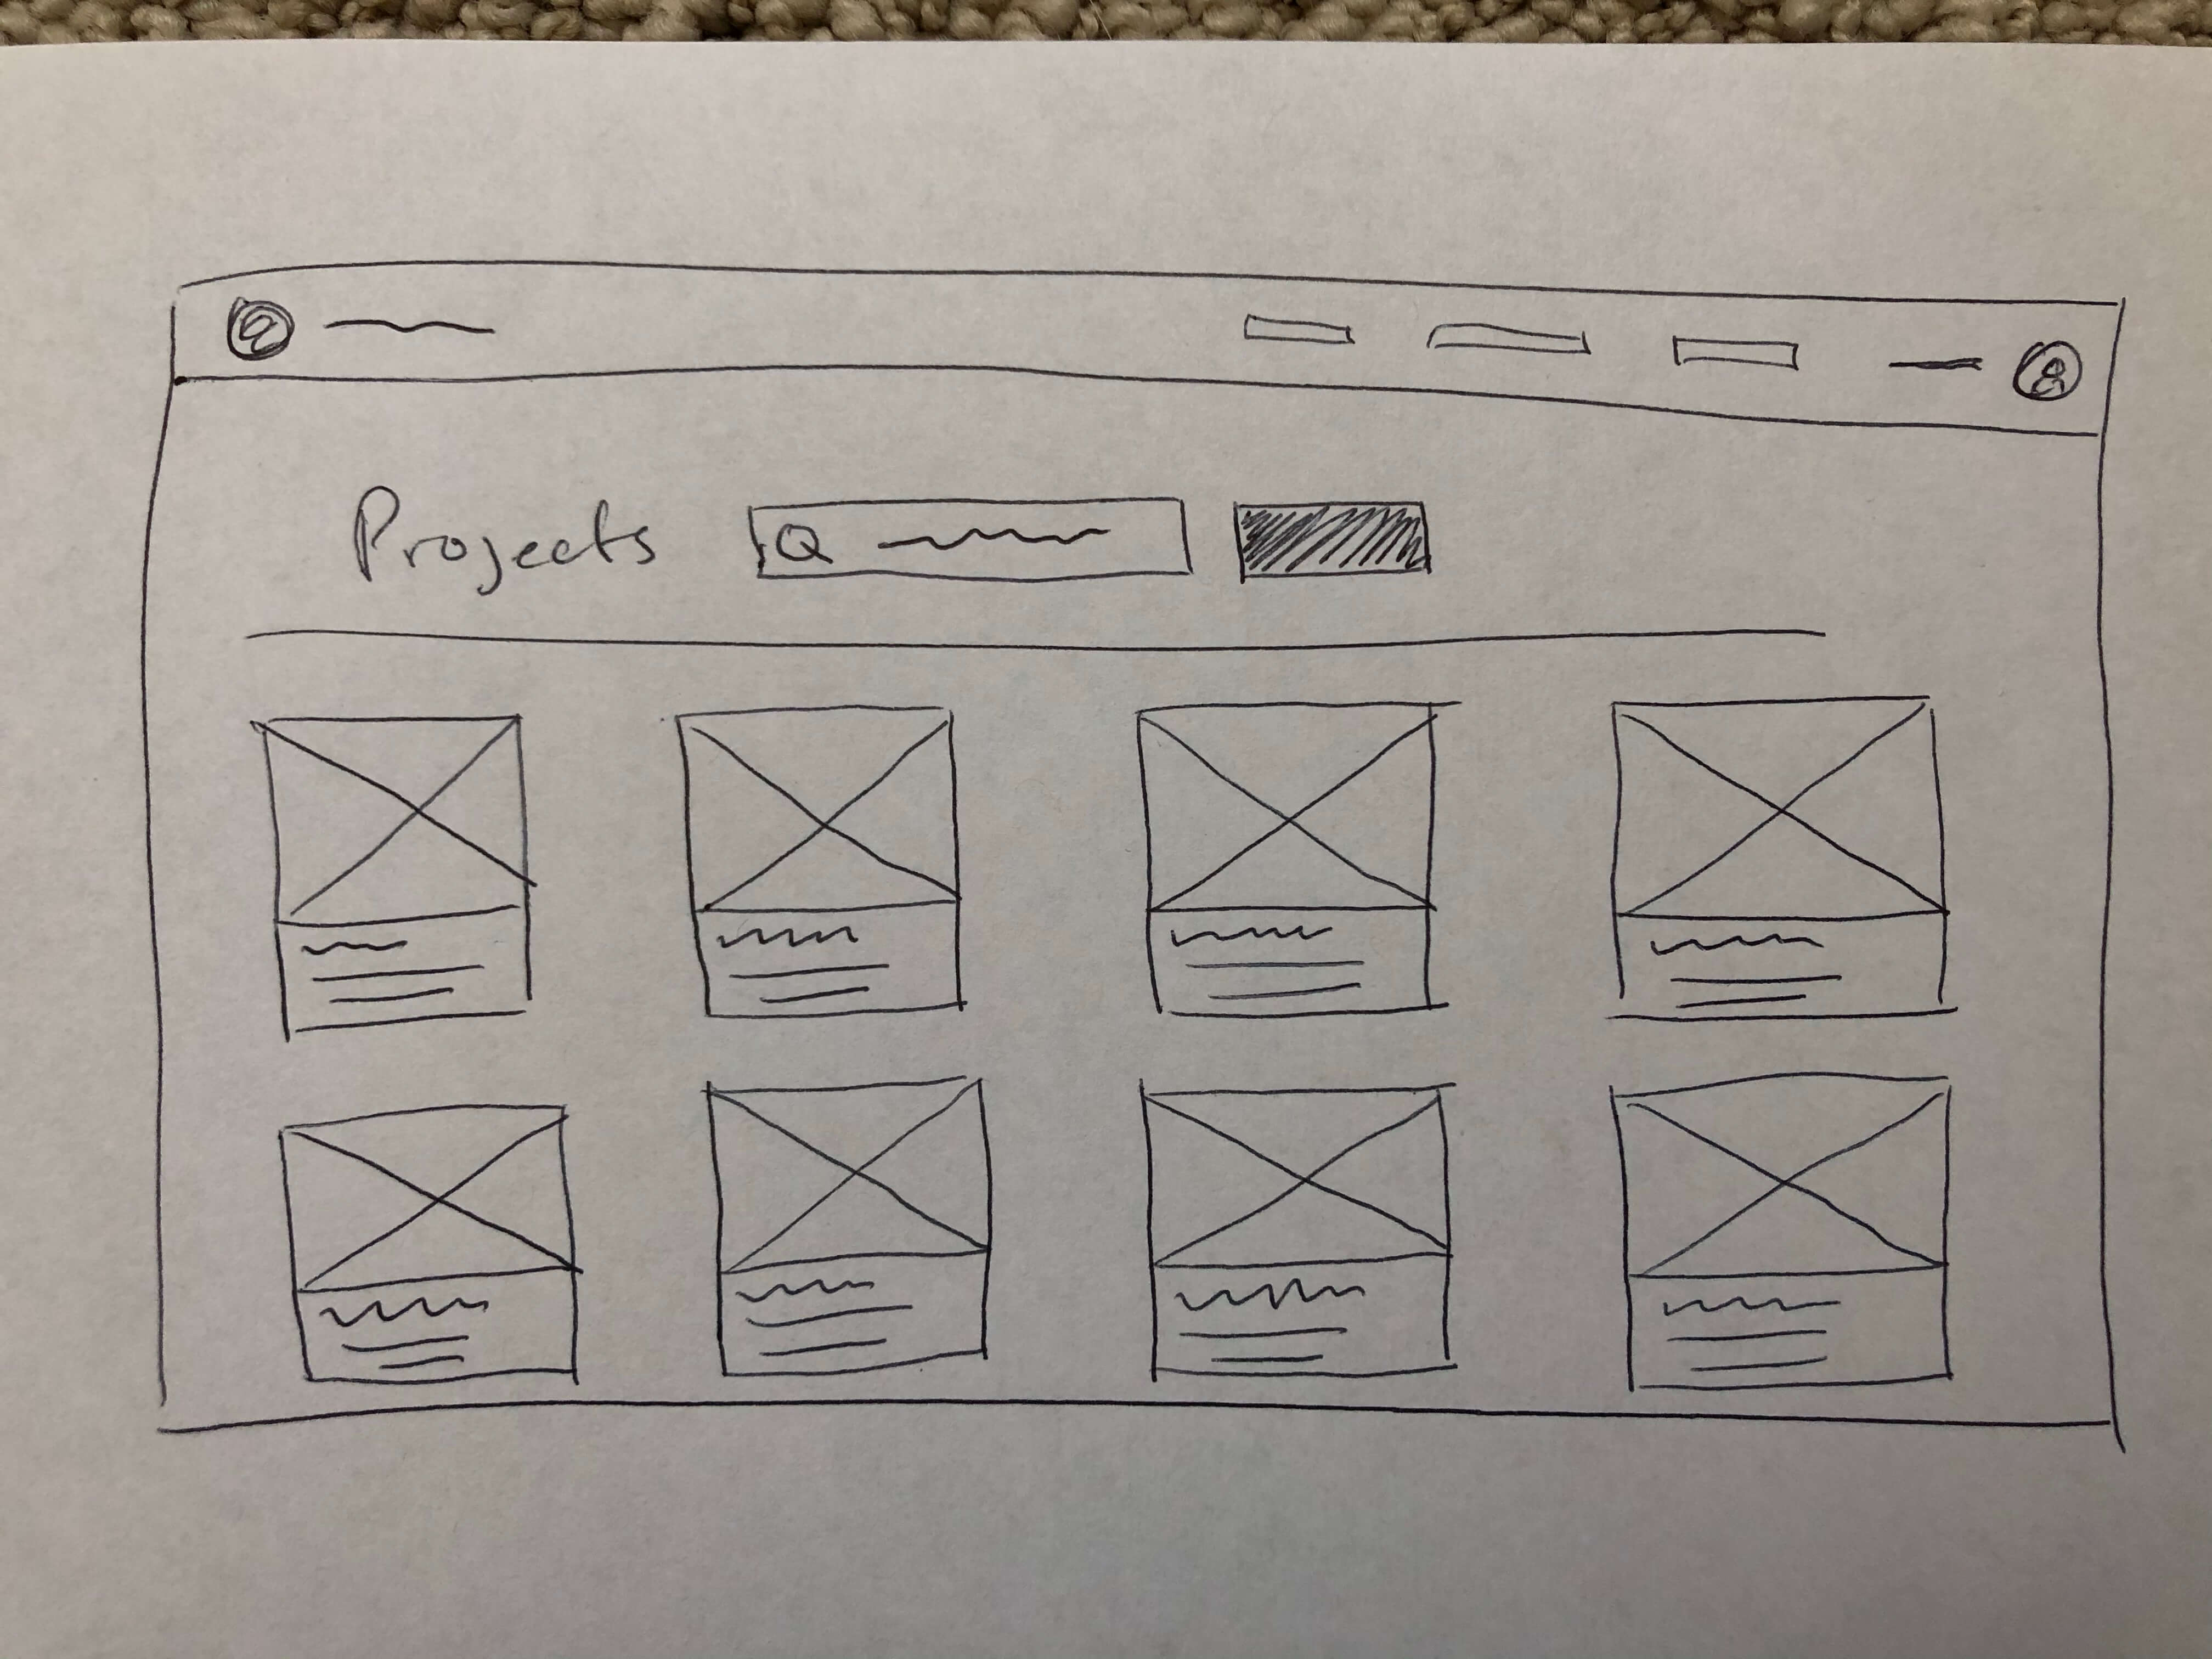avatar: (1883, 329, 2088, 415)
button: (1216, 490, 1437, 587)
card: (1604, 681, 1968, 1039), (1602, 1063, 1959, 1405), (1125, 688, 1461, 1026), (667, 695, 989, 1033), (1130, 1072, 1463, 1392), (251, 704, 554, 1035), (695, 1066, 1003, 1387), (273, 1098, 610, 1389)
